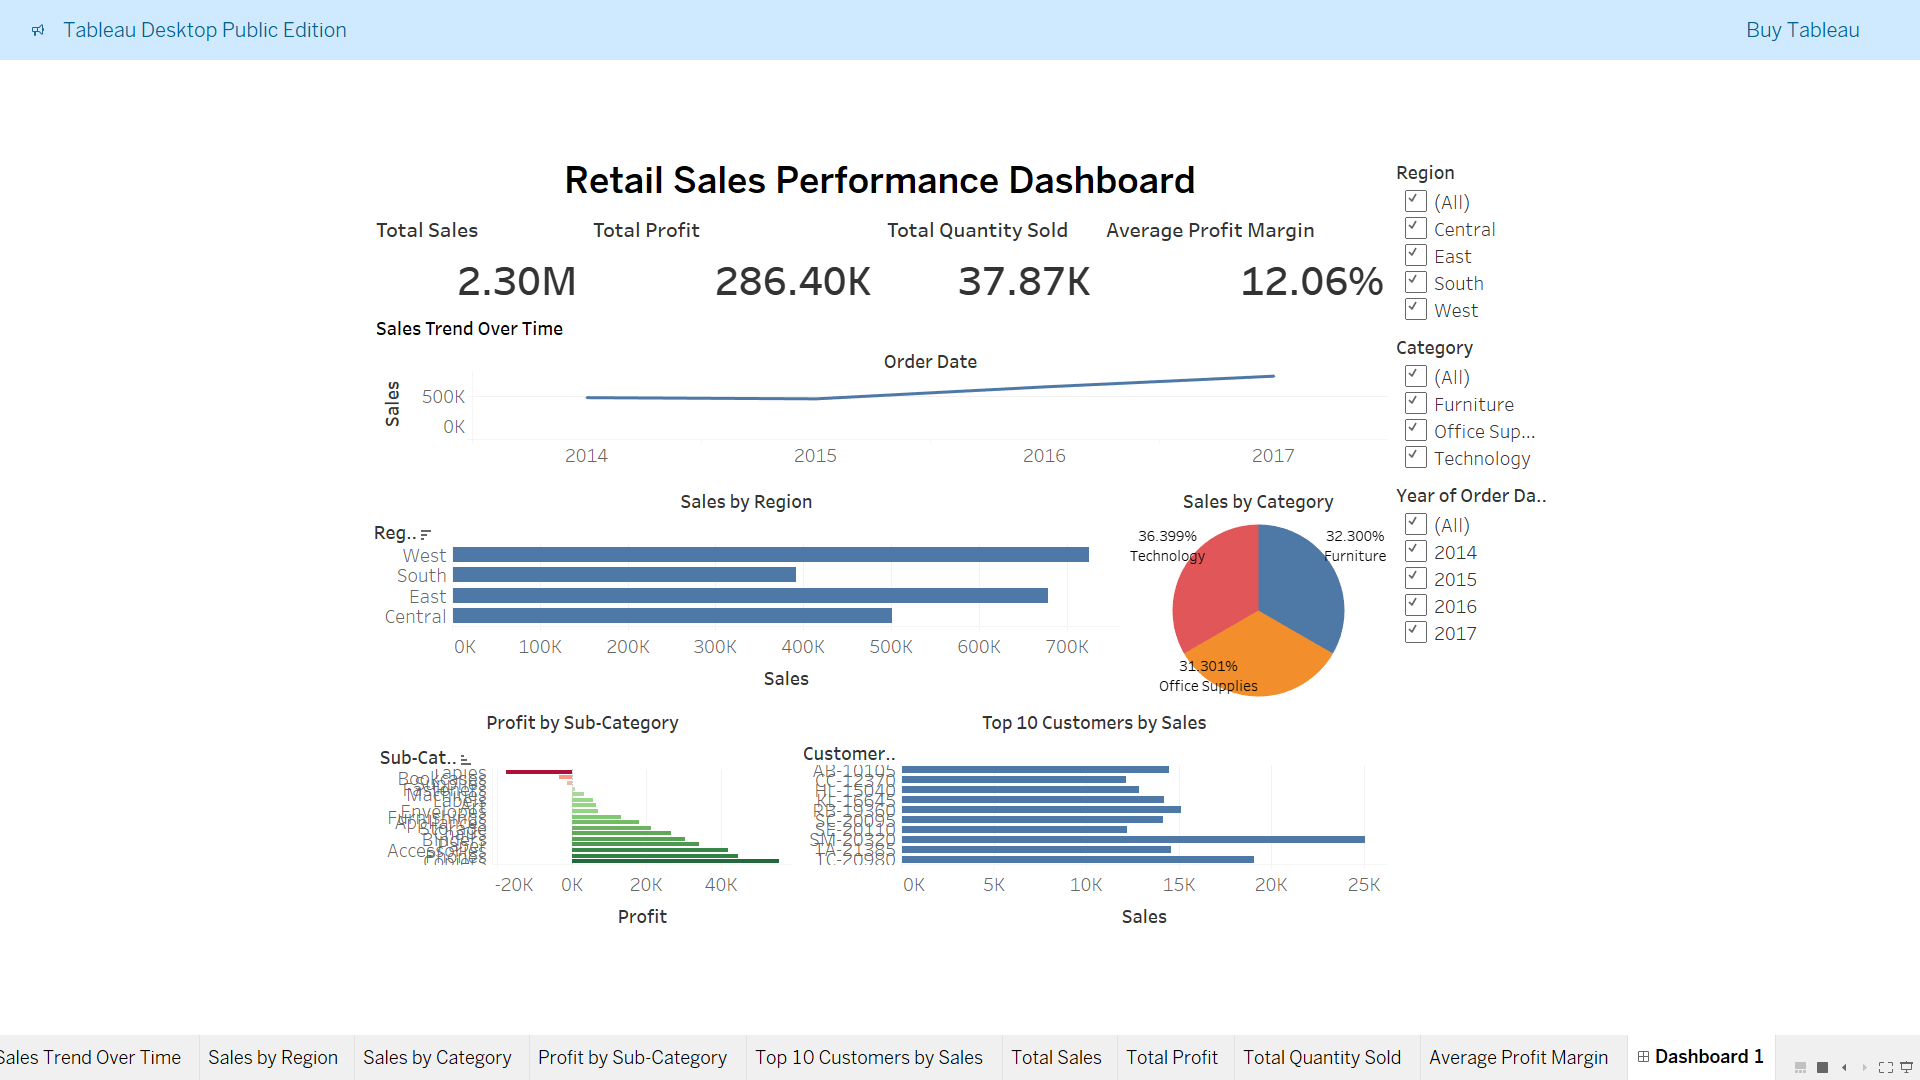

The page's visual inventory and layout, read from the dashboard file:
{"tool":"tableau","page":{"name":"Dashboard 1","canvas":[1200,800],"ordinal":0},"visuals":[{"type":"text","box":[8,8,1024,52]},{"type":"filter","title":"Sales by Region","param":"[federated.1m4ahkg04pjnzr16cg5tt0lyly46].[none:Region:nk]","box":[1032,8,160,175]},{"type":"worksheet","title":"Total Sales","mark":"Automatic","box":[8,60,217,100]},{"type":"worksheet","title":"Total Profit","mark":"Automatic","box":[225,60,294,100]},{"type":"worksheet","title":"Total Quantity Sold","mark":"Automatic","box":[519,60,219,100]},{"type":"worksheet","title":"Average Profit Margin","mark":"Automatic","box":[738,60,294,100]},{"type":"worksheet","title":"Sales Trend Over Time","mark":"Automatic","rows":["Sales"],"cols":["Order Date"],"box":[8,160,1024,165]},{"type":"filter","title":"Sales by Category","param":"[federated.1m4ahkg04pjnzr16cg5tt0lyly46].[none:Category:nk]","box":[1032,183,160,148]},{"type":"filter","title":"Sales Trend Over Time","param":"[federated.1m4ahkg04pjnzr16cg5tt0lyly46].[yr:Order Date:ok]","box":[1032,331,160,175]},{"type":"worksheet","title":"Sales by Region","mark":"Automatic","rows":["Region"],"cols":["Sales"],"box":[8,333,757,221]},{"type":"worksheet","title":"Sales by Category","mark":"Pie","box":[765,333,267,221]},{"type":"worksheet","title":"Profit by Sub-Category","mark":"Automatic","rows":["Sub-Category"],"cols":["Profit"],"box":[8,554,429,238]},{"type":"worksheet","title":"Top 10 Customers by Sales","mark":"Automatic","rows":["Customer ID"],"cols":["Sales"],"box":[437,554,595,238]}]}

Visuals, with their boxes on the page's 1200x800 design canvas (x1, y1, x2, y2). These are canvas units, not pixel positions in the 1920x1080 screenshot, which may show the page scaled, cropped or inside an application window:
text: left=8, top=8, right=1032, bottom=60
"Sales by Region" filter: left=1032, top=8, right=1192, bottom=183
"Total Sales" worksheet: left=8, top=60, right=225, bottom=160
"Total Profit" worksheet: left=225, top=60, right=519, bottom=160
"Total Quantity Sold" worksheet: left=519, top=60, right=738, bottom=160
"Average Profit Margin" worksheet: left=738, top=60, right=1032, bottom=160
"Sales Trend Over Time" worksheet: left=8, top=160, right=1032, bottom=325
"Sales by Category" filter: left=1032, top=183, right=1192, bottom=331
"Sales Trend Over Time" filter: left=1032, top=331, right=1192, bottom=506
"Sales by Region" worksheet: left=8, top=333, right=765, bottom=554
"Sales by Category" worksheet (Pie marks): left=765, top=333, right=1032, bottom=554
"Profit by Sub-Category" worksheet: left=8, top=554, right=437, bottom=792
"Top 10 Customers by Sales" worksheet: left=437, top=554, right=1032, bottom=792
